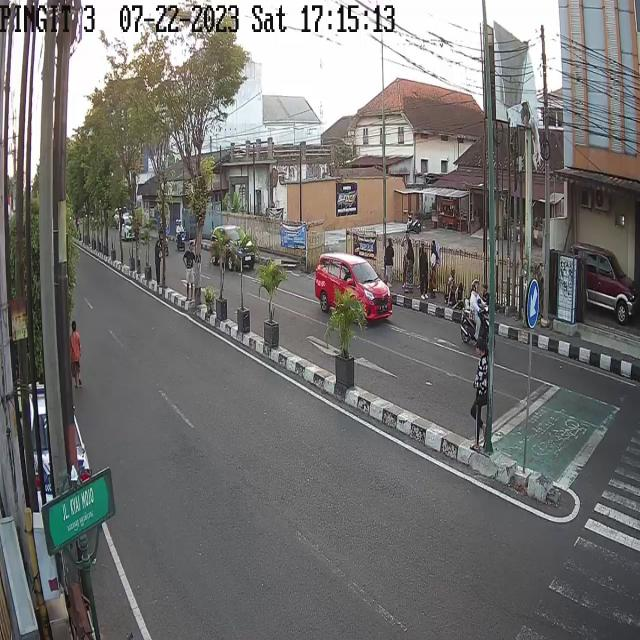car: (317, 254, 393, 328), (575, 244, 637, 325), (211, 224, 255, 272), (120, 214, 138, 242)
motorcycle: (461, 280, 496, 350), (158, 220, 172, 258), (176, 219, 186, 254)
